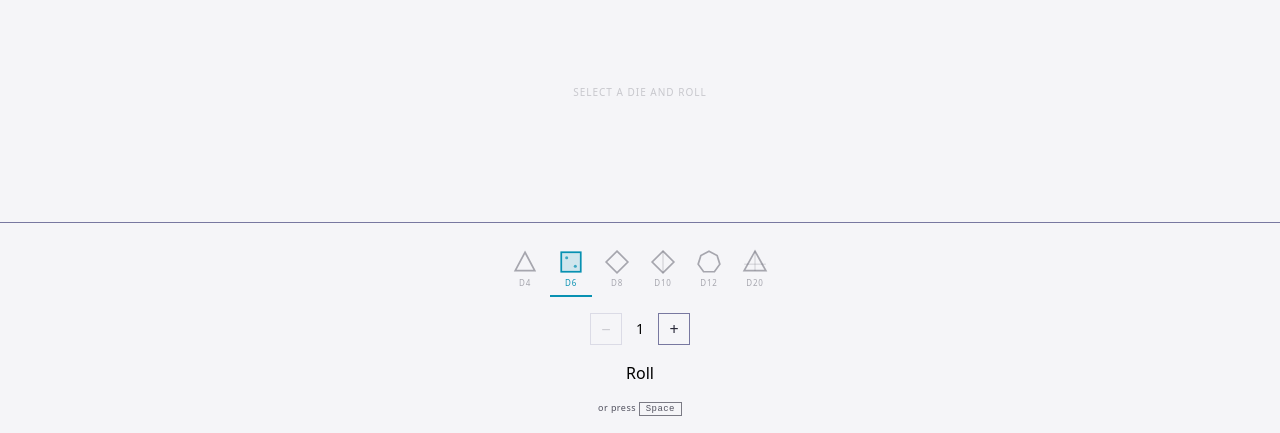
DiceRoller › rolling › shows a rolling state after clicking Roll
Click the button "Roll" at (640, 373), box [626,361,654,385]
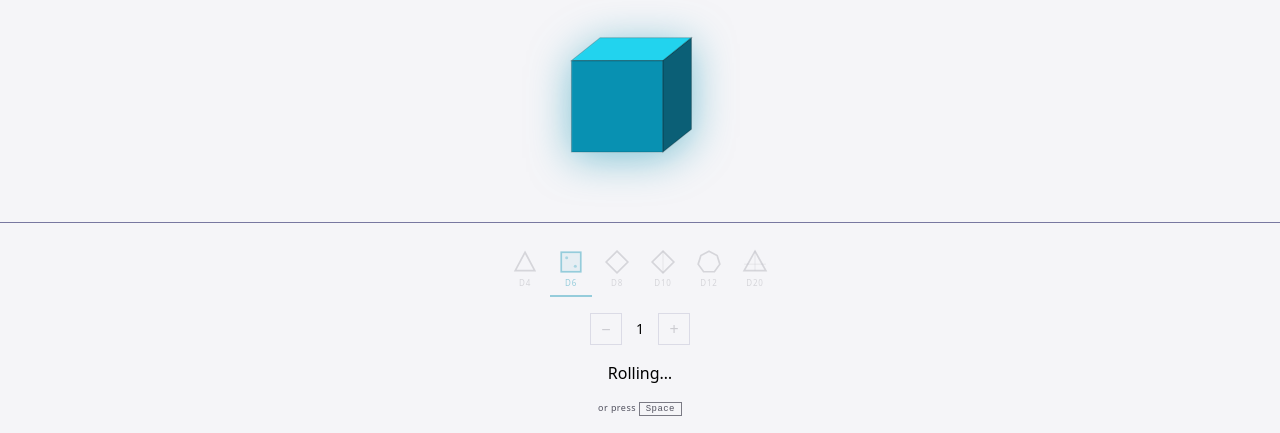
Result: the button "Rolling…" is shown at [608,361,672,385]
